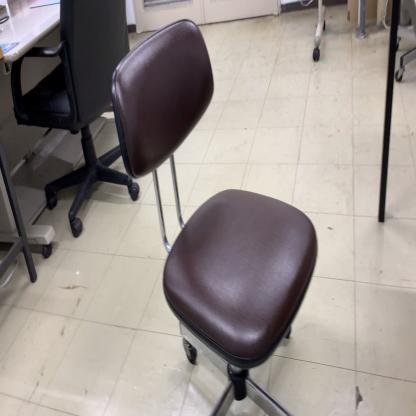chair: (110, 19, 321, 416), (10, 0, 141, 239)
